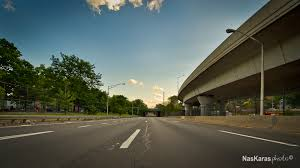strada: (4, 116, 298, 166)
